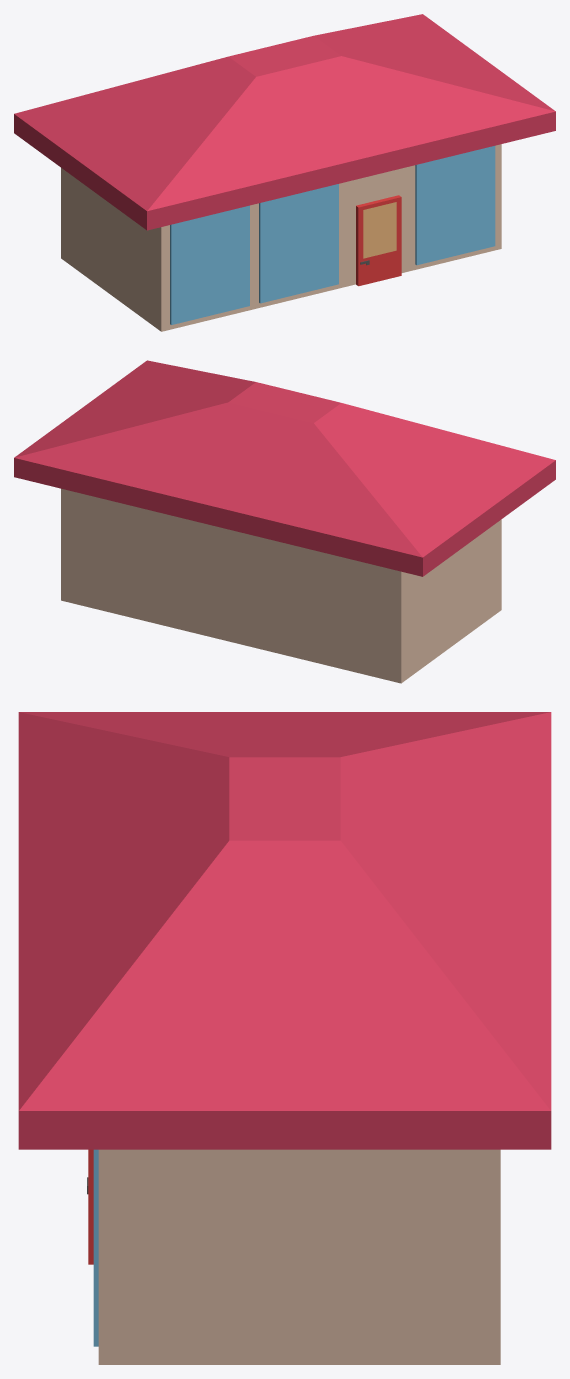
The model's file is GasStationBuilding.fbx.
The picture shows the model from 3 angles, top to bottom: view 1: azimuth 30°, elevation 25°; view 2: azimuth 150°, elevation 25°; view 3: azimuth 270°, elevation 25°; orthographic projection. The views are drawn at different scales.
Visible parts, largest first — view 1: pCube27; view 2: pCube27; view 3: pCube27.
Boxes of the visible parts, box(x1,y1,x2,y2) form: pCube27: box(14, 14, 555, 331); pCube27: box(14, 360, 555, 683); pCube27: box(18, 712, 551, 1364).
Bounding box in the file's own units: 1.64 × 0.7663 × 0.9243.
